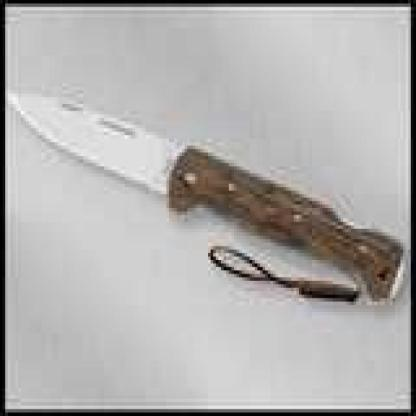Knife: (2, 82, 416, 326)
